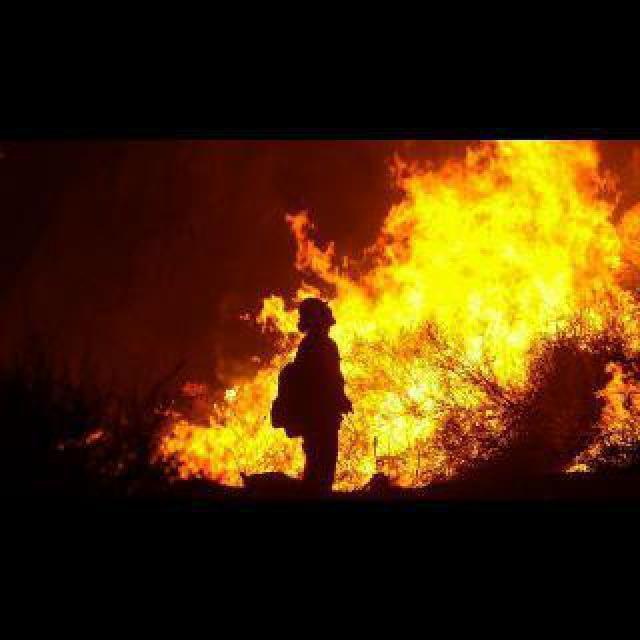Fire: (343, 138, 640, 490), (162, 354, 290, 480), (276, 212, 342, 296), (253, 296, 301, 341)
